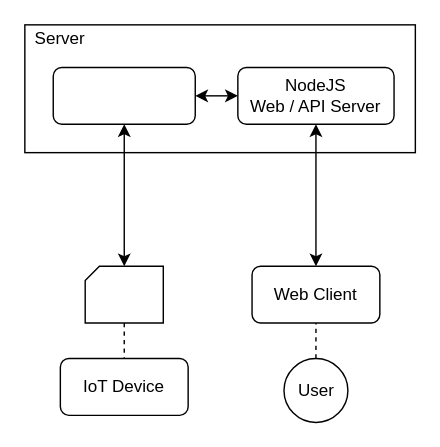
Image size: 440x447. Some labels were removed from this diagram. The box of each missing label's shape, as (x1, y1, x2, y2) in pixels:
IoT Library: (84, 265, 163, 323)
Mosquitto MQTT Broker: (52, 66, 195, 124)
